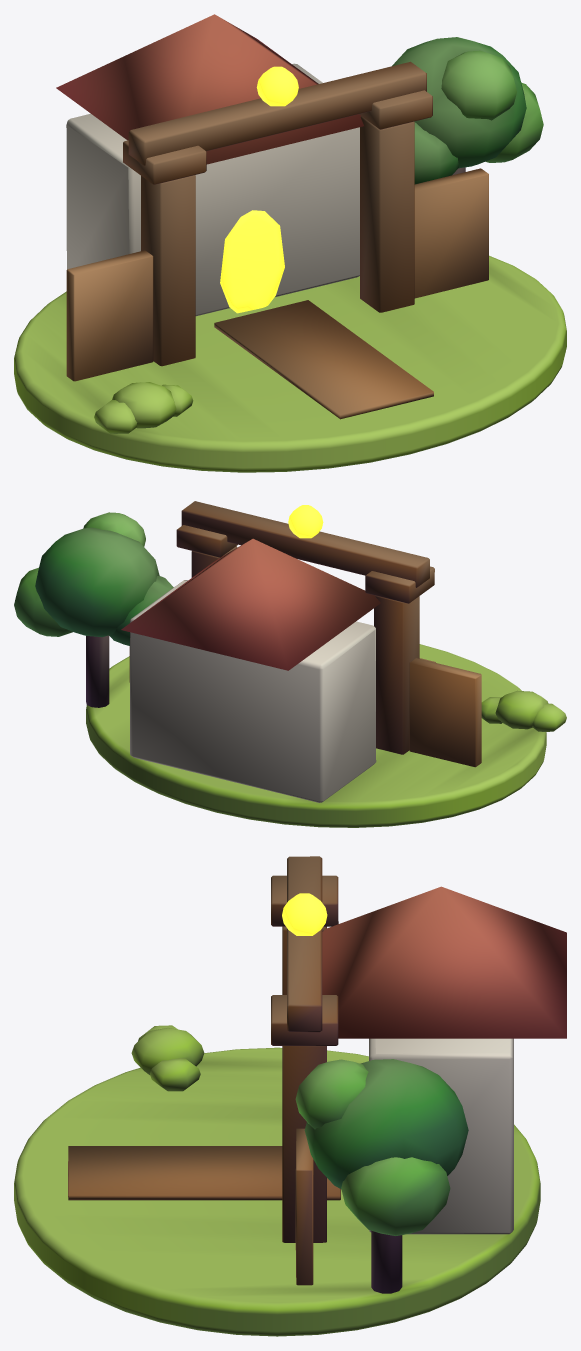
File: prodigal.glb
3 renders of one model, top to bottom at view 1: azimuth 30°, elevation 25°; view 2: azimuth 150°, elevation 25°; view 3: azimuth 270°, elevation 25°, orthographic. The views are drawn at different scales.
Parts seen in each view (by area): view 1: prodigal; view 2: prodigal; view 3: prodigal.
Part boxes in pixels (<box>): prodigal: <box>14,14,566,472</box>; prodigal: <box>14,501,566,827</box>; prodigal: <box>14,856,566,1336</box>.
Size of the model in its own units: 7.55 by 3.9 by 6.07.
